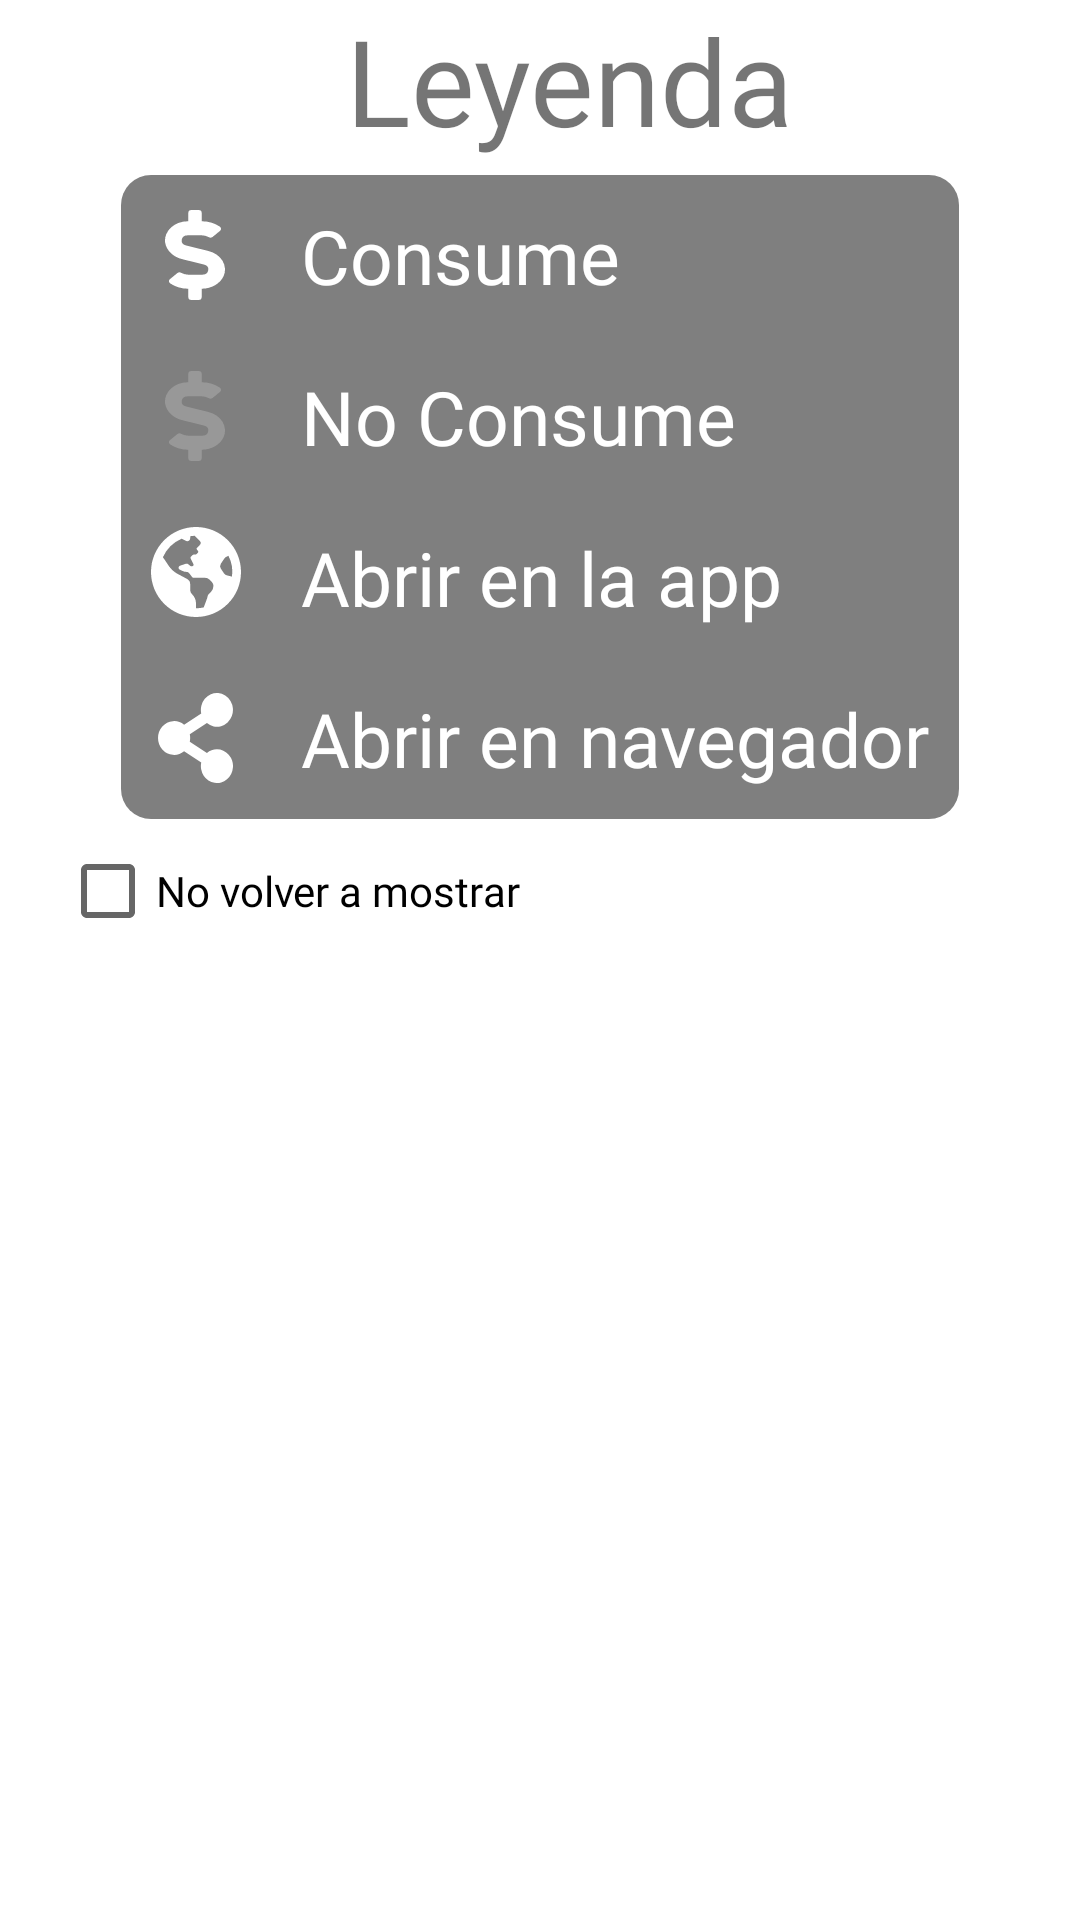

Where icons sit on this 1080 x 1920 app screen, as box=[x1, y1, x2, y2]:
cost: box=[165, 210, 225, 300]
nocost: box=[165, 371, 225, 461]
share: box=[158, 693, 233, 783]
web: box=[151, 527, 241, 617]
